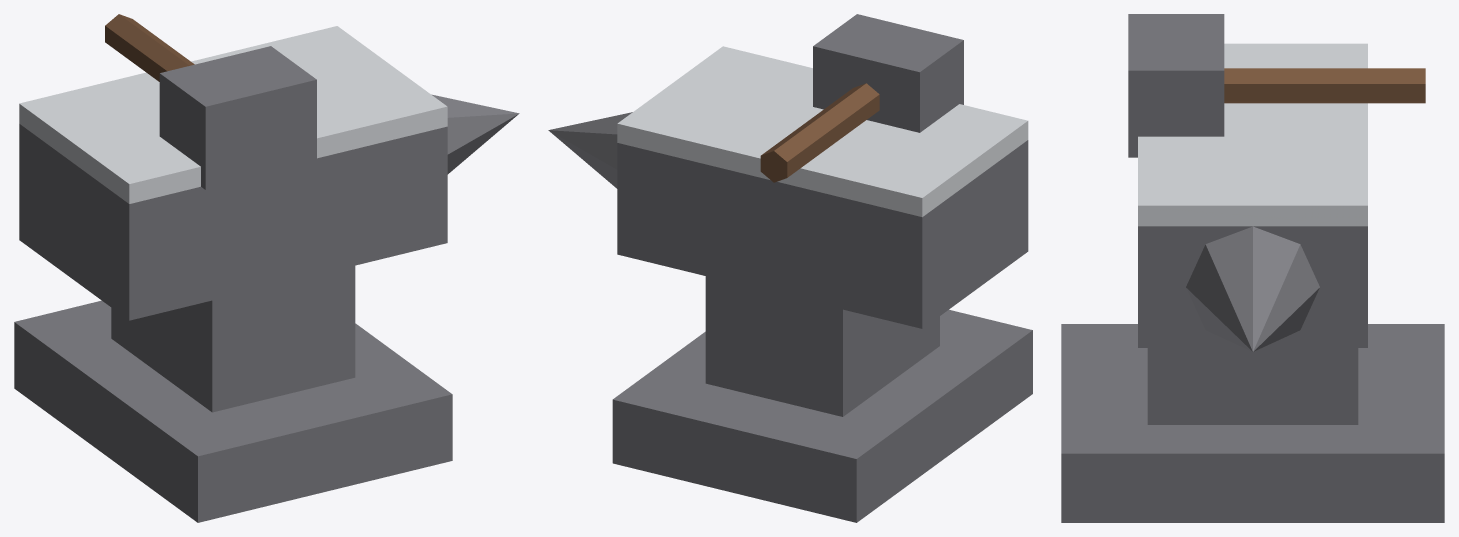
The model's file is std_anvil.glb.
3 views of the same model, side by side, from view 1: azimuth 30°, elevation 25°; view 2: azimuth 150°, elevation 25°; view 3: azimuth 270°, elevation 25° (orthographic). The views are drawn at different scales.
Parts seen in each view (by area): view 1: std_anvil; view 2: std_anvil; view 3: std_anvil.
Boxes of the visible parts, x1,y1,x2,y2 form: std_anvil: (14, 14, 519, 522); std_anvil: (548, 14, 1032, 522); std_anvil: (1061, 14, 1444, 522).
Bounding box in the file's own units: 0.28 × 0.23 × 0.2.
